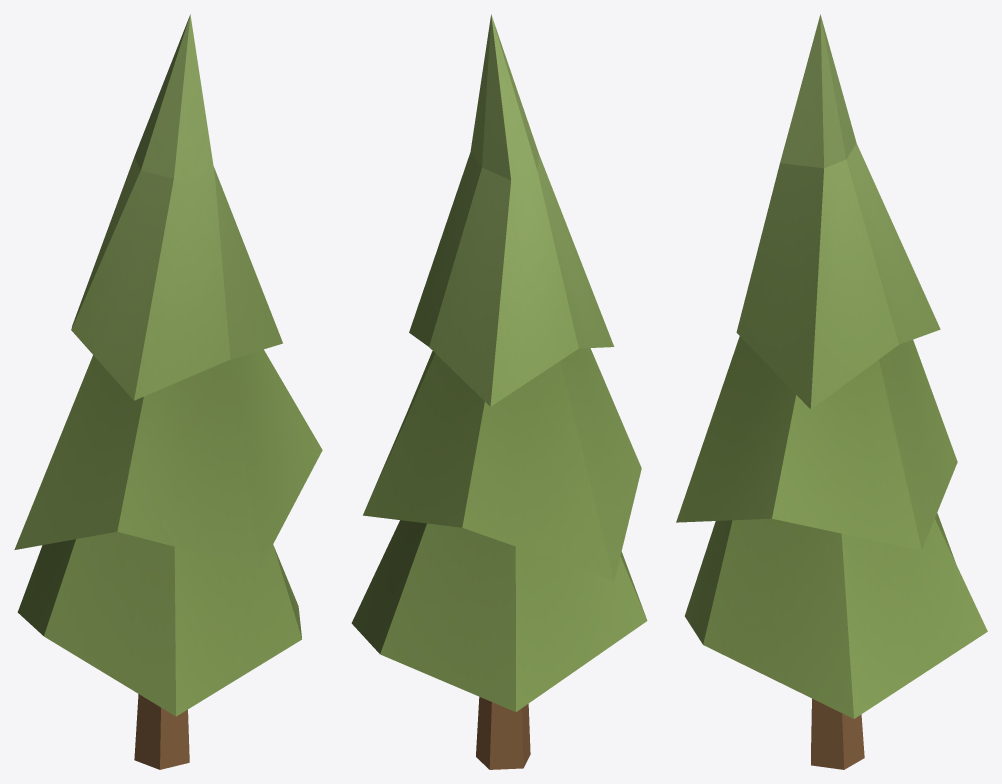
The model's file is Pine_Tree_OneSided_s_03.fbx.
3 views of the same model, side by side, from view 1: azimuth 30°, elevation 25°; view 2: azimuth 150°, elevation 25°; view 3: azimuth 270°, elevation 25° (orthographic). The views are drawn at different scales.
Visible parts, largest first — view 1: Pine_Tree_OneSided_s_03; view 2: Pine_Tree_OneSided_s_03; view 3: Pine_Tree_OneSided_s_03.
Boxes of the visible parts, left/top/right/bottom form: Pine_Tree_OneSided_s_03: left=14, top=14, right=322, bottom=769; Pine_Tree_OneSided_s_03: left=351, top=14, right=647, bottom=769; Pine_Tree_OneSided_s_03: left=676, top=14, right=987, bottom=769.
Size of the model in its own units: 121 by 310 by 116.
